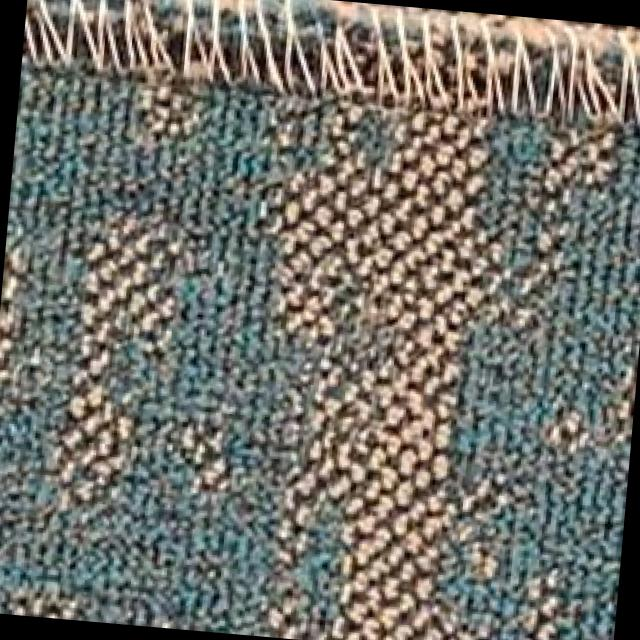gray stitch: (22, 0, 640, 129)
